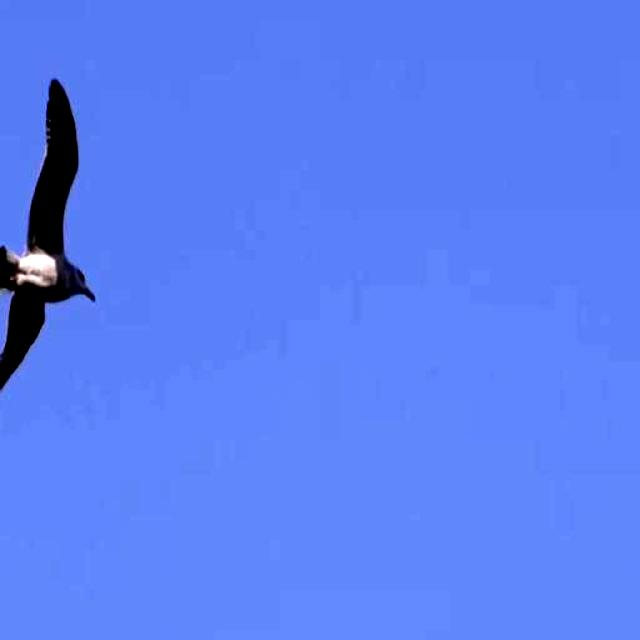airplane: (0, 71, 100, 430)
